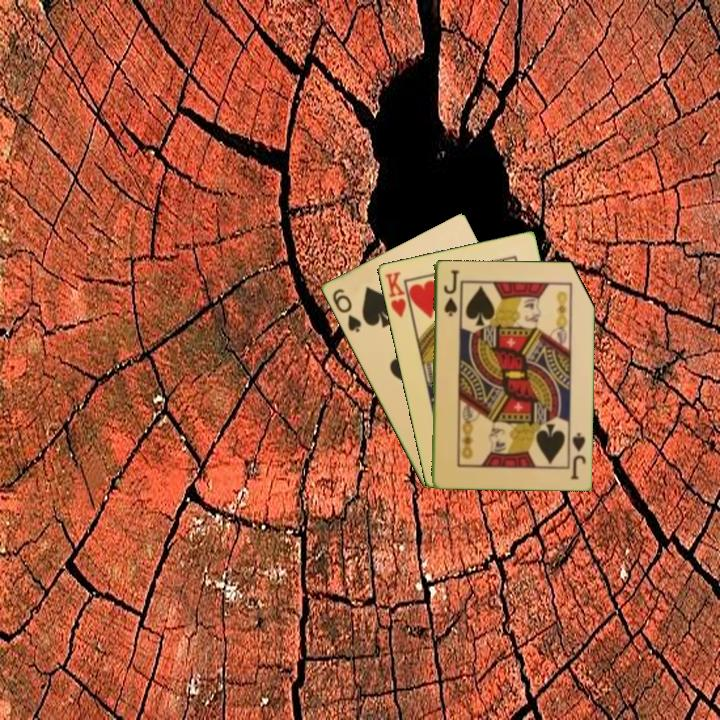6s: (328, 285, 364, 335)
Js: (567, 429, 588, 482), (440, 266, 459, 319)
Kh: (381, 268, 414, 321)
